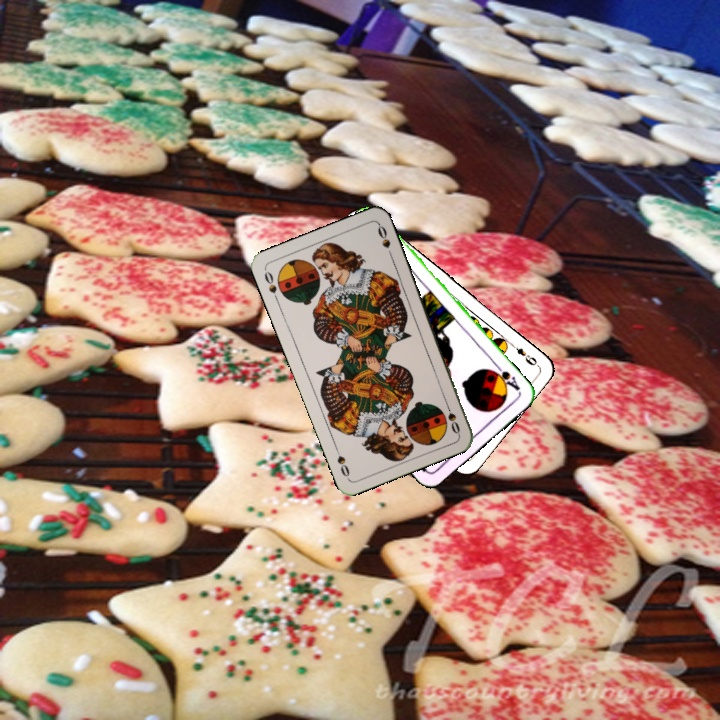E9: (506, 339, 541, 368)
SA: (487, 360, 523, 394)
SO: (441, 397, 462, 437), (260, 266, 281, 305)
